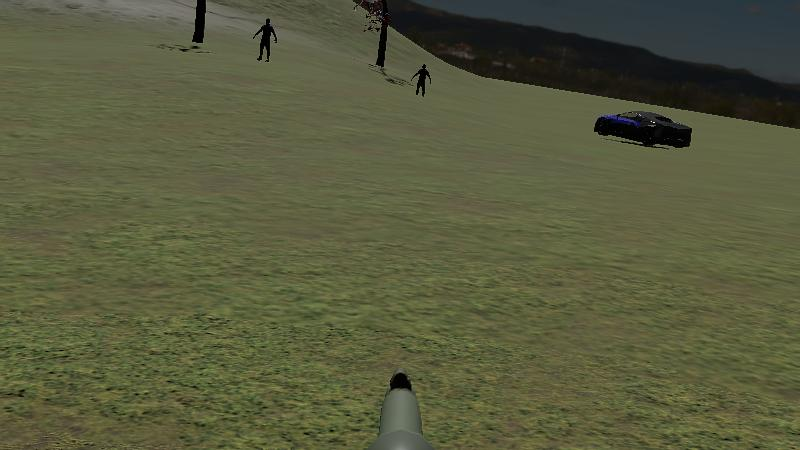Human: (250, 16, 280, 64), (409, 61, 434, 100)
car: (590, 106, 696, 153)
